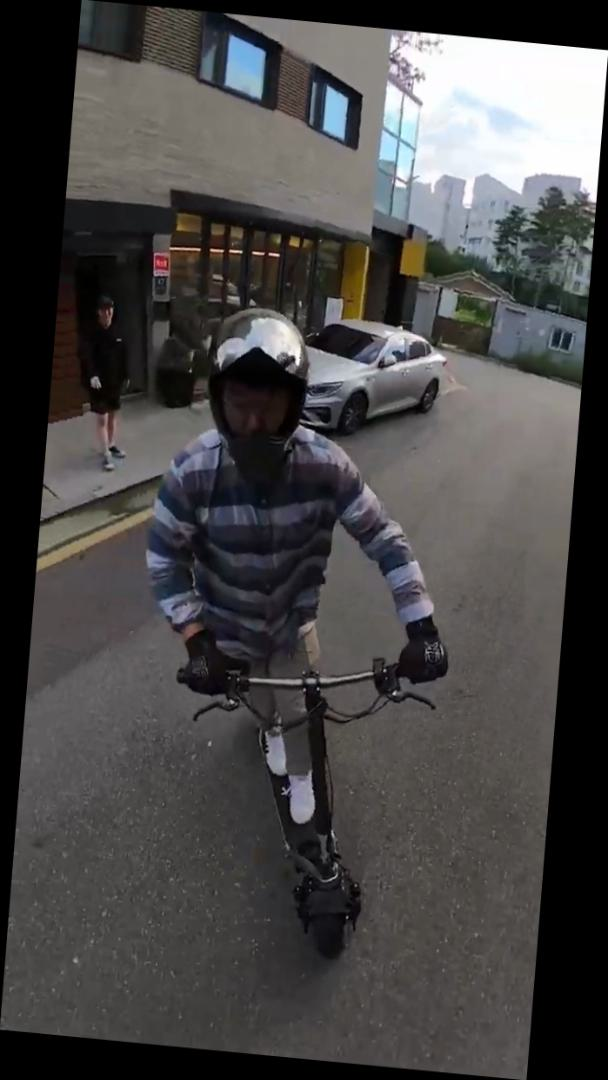helmet: (110, 297, 477, 974)
